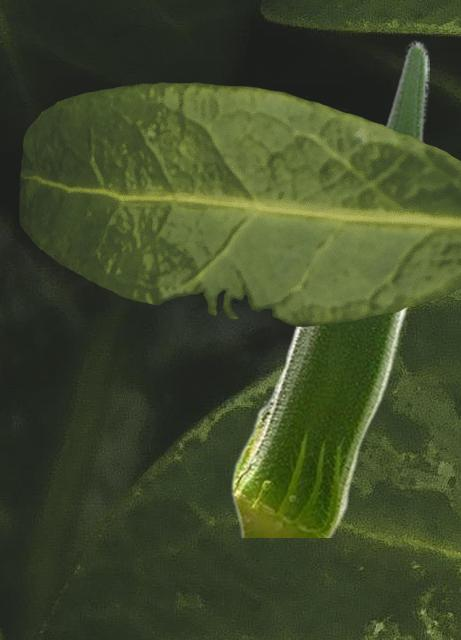okra: (230, 39, 428, 536)
